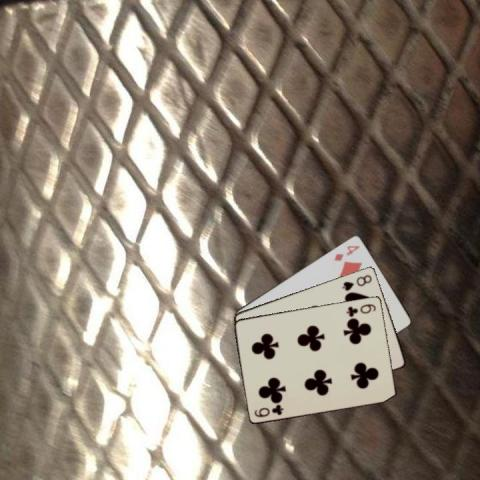4d: (331, 242, 361, 262)
6c: (252, 401, 286, 419), (344, 301, 378, 317)
8s: (340, 271, 374, 292)
